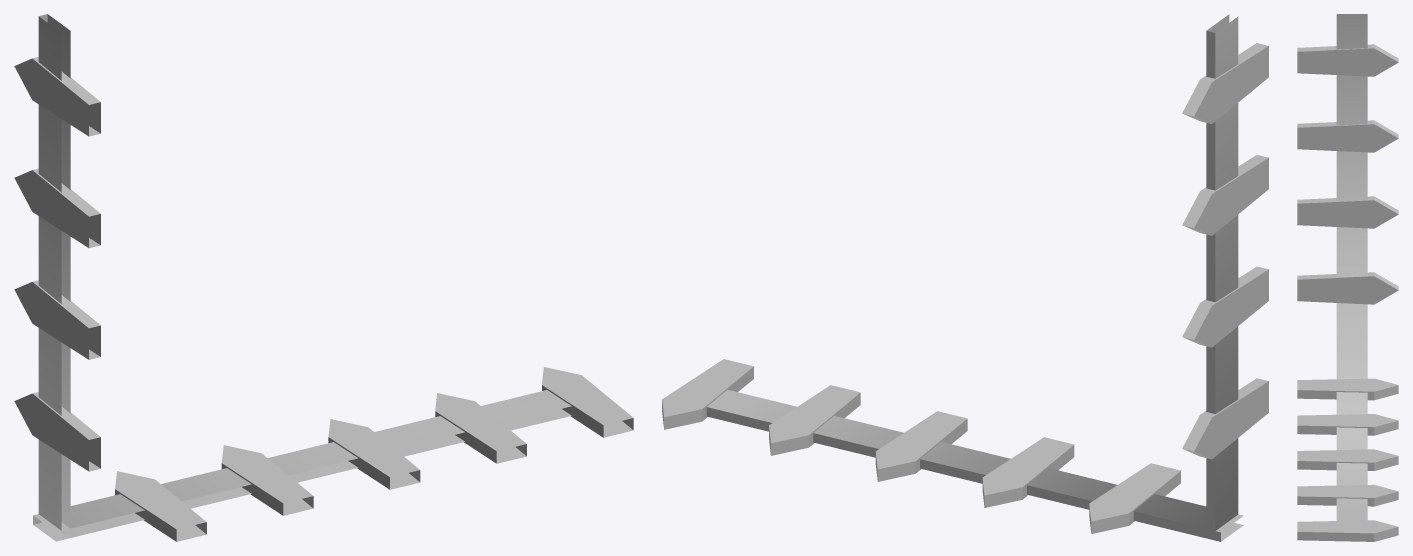
Rendered from Fence 01.FBX.
The picture shows the model from 3 angles, left to right: view 1: azimuth 30°, elevation 25°; view 2: azimuth 150°, elevation 25°; view 3: azimuth 270°, elevation 25°; orthographic projection. The views are drawn at different scales.
Visible parts, largest first — view 1: Fence 01 Corner 01, Fence 01 Center; view 2: Fence 01 Corner 01, Fence 01 Center; view 3: Fence 01 Corner 01, Fence 01 Center.
Part boxes in pixels (x1=…): Fence 01 Corner 01: x1=14, y1=14, x2=545, y2=537; Fence 01 Center: x1=33, y1=367, x2=633, y2=541; Fence 01 Corner 01: x1=730, y1=14, x2=1268, y2=538; Fence 01 Center: x1=662, y1=359, x2=1243, y2=541; Fence 01 Corner 01: x1=1297, y1=14, x2=1398, y2=510; Fence 01 Center: x1=1297, y1=378, x2=1398, y2=541.
Bounding box in the file's own units: 519 × 456 × 121.
Materials: 1 (1 with a texture image).
